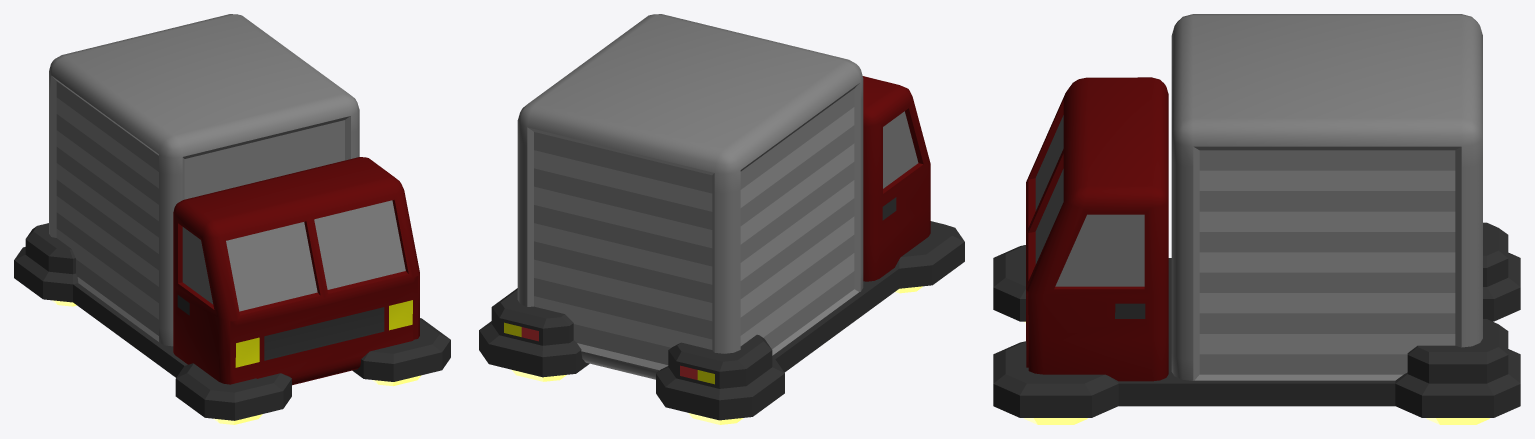
Rendered from MOBIL_NPC_TRUCK_2.fbx.
3 views of the same model, side by side, from view 1: azimuth 30°, elevation 25°; view 2: azimuth 150°, elevation 25°; view 3: azimuth 270°, elevation 25° (orthographic). The views are drawn at different scales.
Visible parts, largest first — view 1: MOBIL_NPC_TRUCK_2; view 2: MOBIL_NPC_TRUCK_2; view 3: MOBIL_NPC_TRUCK_2.
Part boxes in pixels (left/top/right/bottom): MOBIL_NPC_TRUCK_2: left=14, top=14, right=450, bottom=424; MOBIL_NPC_TRUCK_2: left=479, top=14, right=964, bottom=424; MOBIL_NPC_TRUCK_2: left=993, top=14, right=1520, bottom=424.
Bounding box in the file's own units: 248 × 230 × 371.
